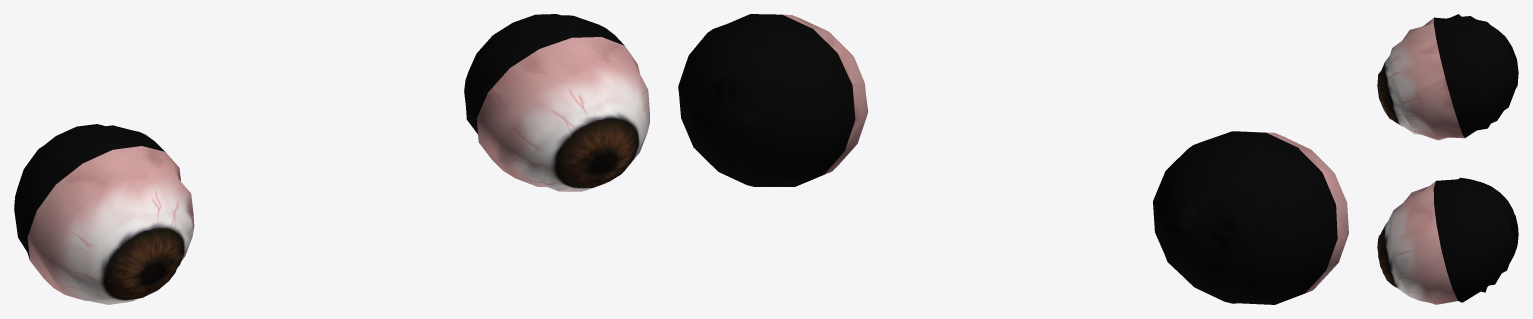
File: 男性_感觉系统_视觉系统.fbx
3 renders of one model, left to right at view 1: azimuth 30°, elevation 25°; view 2: azimuth 150°, elevation 25°; view 3: azimuth 270°, elevation 25°, orthographic. The views are drawn at different scales.
Visible parts, largest first — view 1: 男性_感觉系统_视觉系统; view 2: 男性_感觉系统_视觉系统; view 3: 男性_感觉系统_视觉系统.
Part boxes in pixels (x1,y1,x2,y2): 男性_感觉系统_视觉系统: (14,14,649,304); 男性_感觉系统_视觉系统: (678,14,1348,304); 男性_感觉系统_视觉系统: (1377,14,1518,304).
Bounding box in the file's own units: 9.6 × 2.34 × 2.61.
